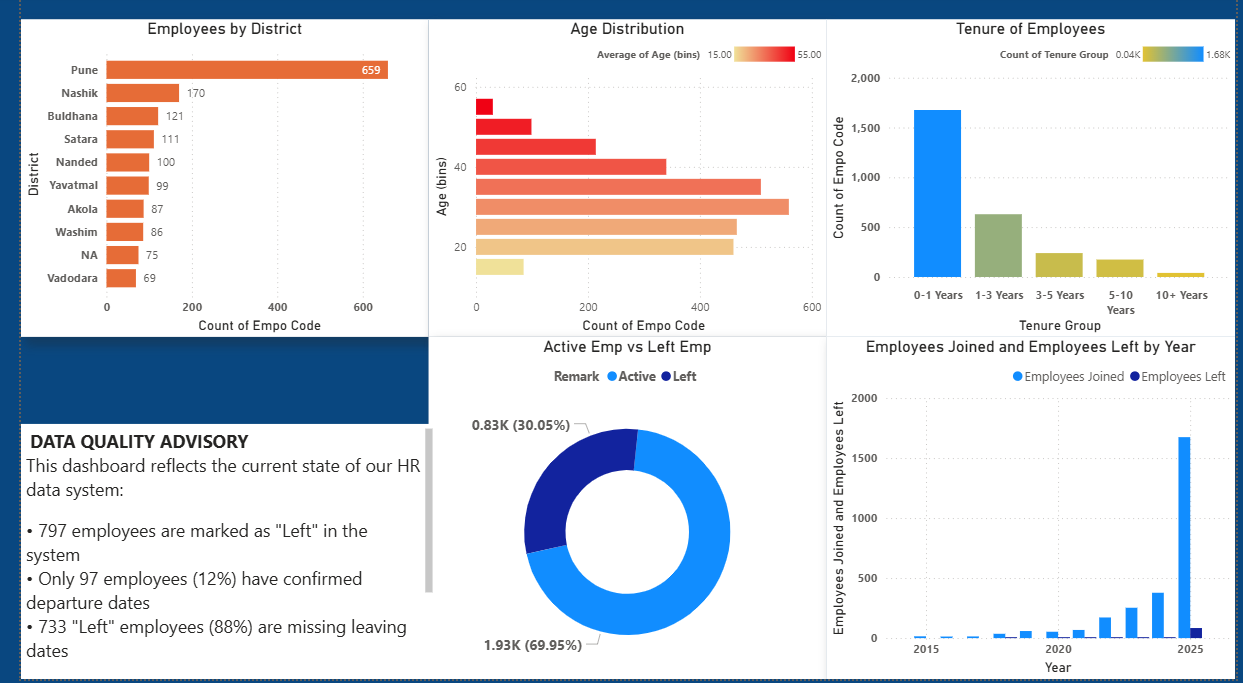

Layout of this report page (visuals, bound fields, positions):
{"tool":"powerbi","page":{"name":"Page 1","canvas":[1280,720],"ordinal":0},"visuals":[{"type":"barChart","title":"Employees by District","fields":{"Category":["Sheet1.District"],"Y":["Count(Sheet1.Empo Code)"]},"box":[0,0,430.8,360],"z":0},{"type":"barChart","title":"Age Distribution","fields":{"Category":["Sheet1.Age (bins)"],"Y":["CountNonNull(Sheet1.Empo Code)"]},"box":[430,0,418.3,360],"z":1000},{"type":"donutChart","title":"Active Emp vs Left Emp","fields":{"Category":["Sheet1.Remark"],"Y":["CountNonNull(Sheet1.Empo Code)"]},"box":[429.4,360.4,418.9,360.4],"z":2000},{"type":"textbox","box":[0,360.4,429.4,360.4],"z":3000},{"type":"clusteredColumnChart","fields":{"Category":["Sheet1.Joining Date.Variation.Date Hierarchy.Year"],"Y":["DateTable.Employees Joined","DateTable.Employees Left"]},"box":[847.7,360,432.3,360],"z":4000},{"type":"clusteredColumnChart","title":"Tenure of Employees","fields":{"Category":["Sheet1.Tenure Group"],"Y":["CountNonNull(Sheet1.Empo Code)"]},"box":[848.3,0,431.7,360],"z":5000}]}

Visuals, with their boxes in screenshot pixels (x1, y1, x2, y2), scaled from the page's 1280x720 canvas onto the 1243x683 screenshot:
"Employees by District" barChart: <bbox>0, 0, 418, 342</bbox>
"Age Distribution" barChart: <bbox>418, 0, 824, 342</bbox>
"Active Emp vs Left Emp" donutChart: <bbox>417, 342, 824, 682</bbox>
textbox: <bbox>0, 342, 417, 682</bbox>
clusteredColumnChart - Sheet1.Joining Date.Variation.Date Hierarchy.Year x DateTable.Employees Joined: <bbox>823, 342, 1242, 682</bbox>
"Tenure of Employees" clusteredColumnChart: <bbox>824, 0, 1242, 342</bbox>
